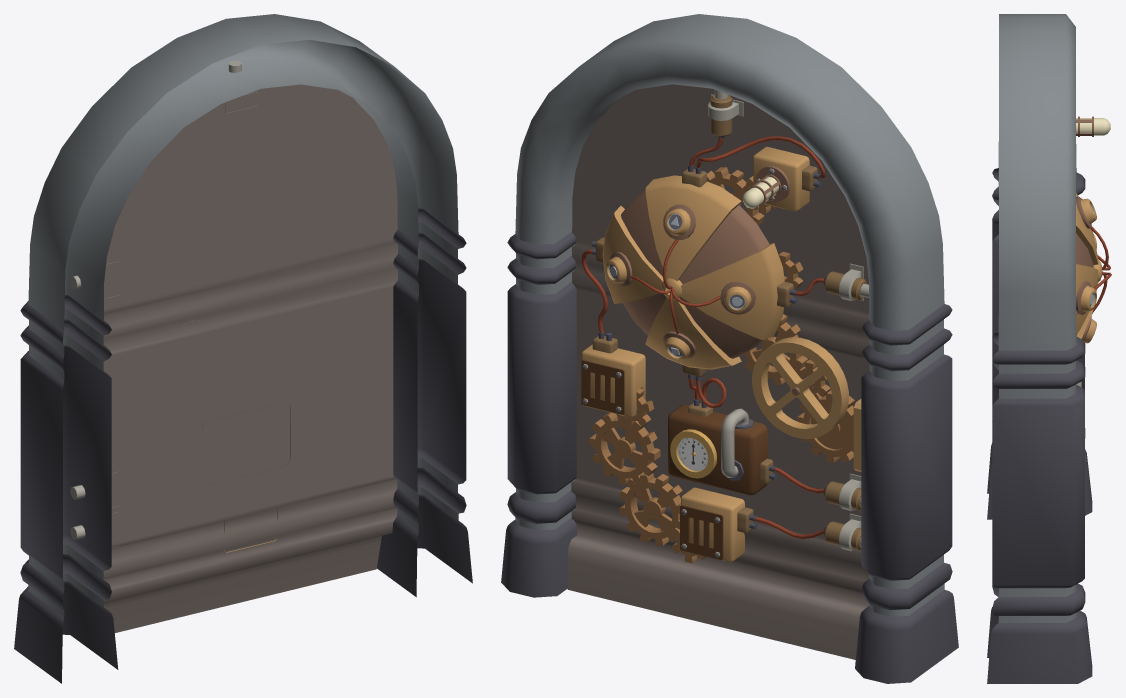
The model's file is MainDoor.fbx.
3 renders of one model, left to right at view 1: azimuth 30°, elevation 25°; view 2: azimuth 150°, elevation 25°; view 3: azimuth 270°, elevation 25°, orthographic. The views are drawn at different scales.
Visible parts, largest first — view 1: Door_Body, Door_Frame; view 2: Door_Body, Door_Frame, Door_Knob, Door_Lock_04_Gear_03.001, Door_Lock_04_Gear_03, Door_Knob_Gear_03, Door_Knob_Gear_01, Door_Lock_01_Gear; view 3: Door_Frame, Door_Body, Door_Lock_03_Light.
Boxes of the visible parts, x1,y1,x2,y2 form: Door_Body: (103, 84, 397, 632); Door_Frame: (14, 14, 472, 683); Door_Body: (567, 84, 869, 659); Door_Frame: (501, 14, 958, 683); Door_Knob: (752, 337, 848, 438); Door_Lock_04_Gear_03.001: (589, 412, 660, 484); Door_Lock_04_Gear_03: (619, 473, 682, 545); Door_Knob_Gear_03: (797, 390, 854, 463); Door_Knob_Gear_01: (742, 314, 807, 384); Door_Lock_01_Gear: (707, 167, 764, 225); Door_Frame: (987, 14, 1092, 683); Door_Body: (1076, 116, 1111, 387); Door_Lock_03_Light: (1076, 118, 1110, 135).
Bounding box in the file's own units: 270 × 366 × 74.66.
18 materials, 1 textured.
